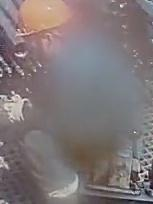gloves: (0, 93, 35, 125)
helmet: (15, 0, 72, 36)
